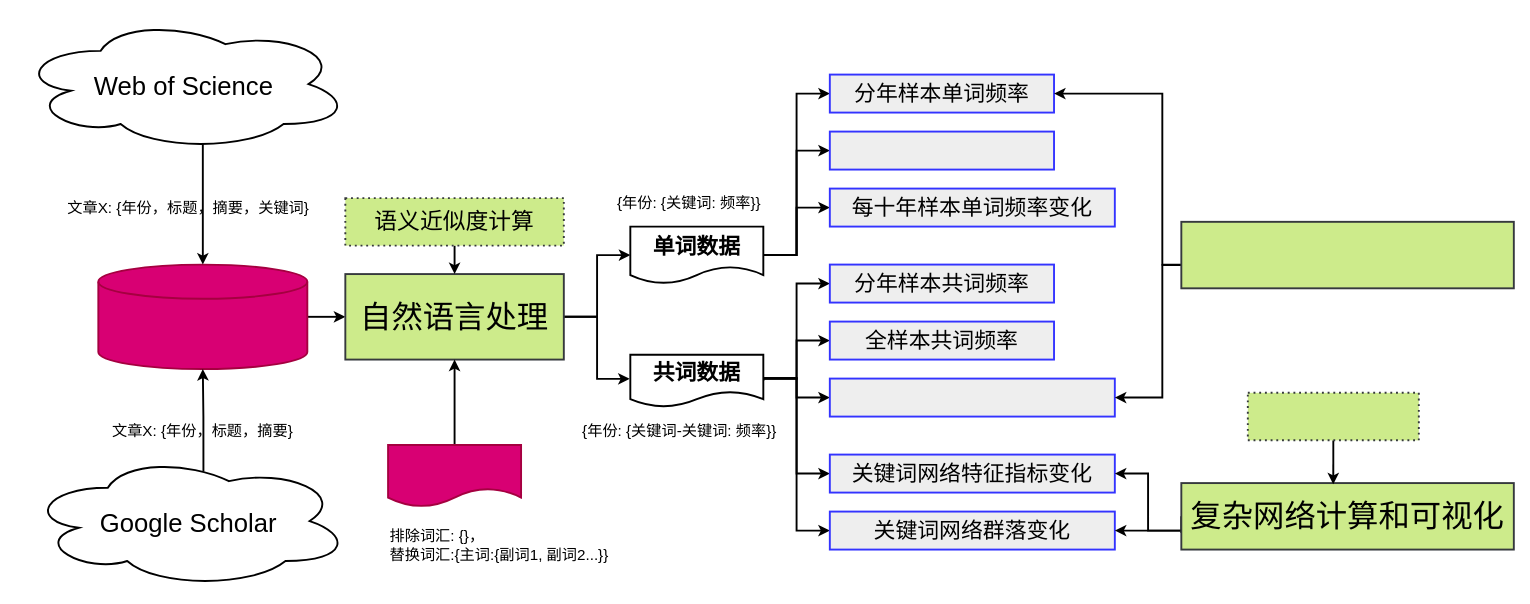
The diagram is 1530 pixels wide and 604 high, and some of its shapes have lost their labels. The centre of each missing label's shape, as x and y in pixels:
"K-团渗滤法" belongs at point (1332, 416).
"全样本单词频率" belongs at point (941, 150).
"数学统计方法和可视化" belongs at point (1347, 254).
"文献数据库" belongs at point (202, 316).
"每十年样本共词频率变化" belongs at point (971, 397).
"规划语义库" belongs at point (454, 475).
